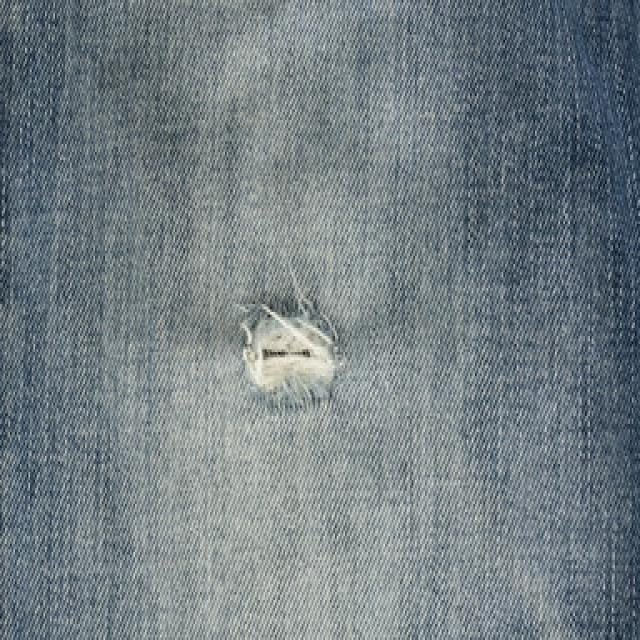Hole: (242, 300, 341, 389)
